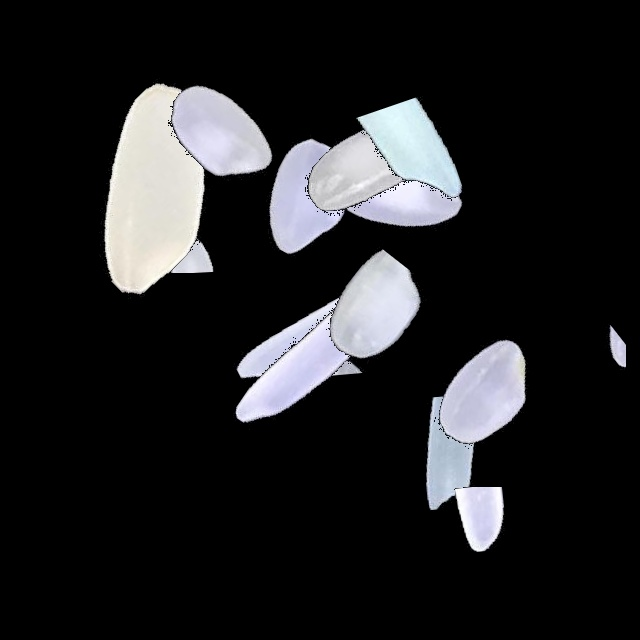Broken: (269, 211, 441, 461), (327, 396, 577, 567), (347, 41, 474, 291), (66, 186, 316, 273), (541, 234, 626, 484), (349, 487, 599, 568), (299, 212, 375, 462)
Full: (183, 73, 433, 323), (199, 206, 449, 456), (273, 64, 523, 314), (22, 63, 272, 313), (243, 43, 493, 293), (191, 230, 441, 480), (93, 10, 343, 260), (359, 267, 609, 517)
